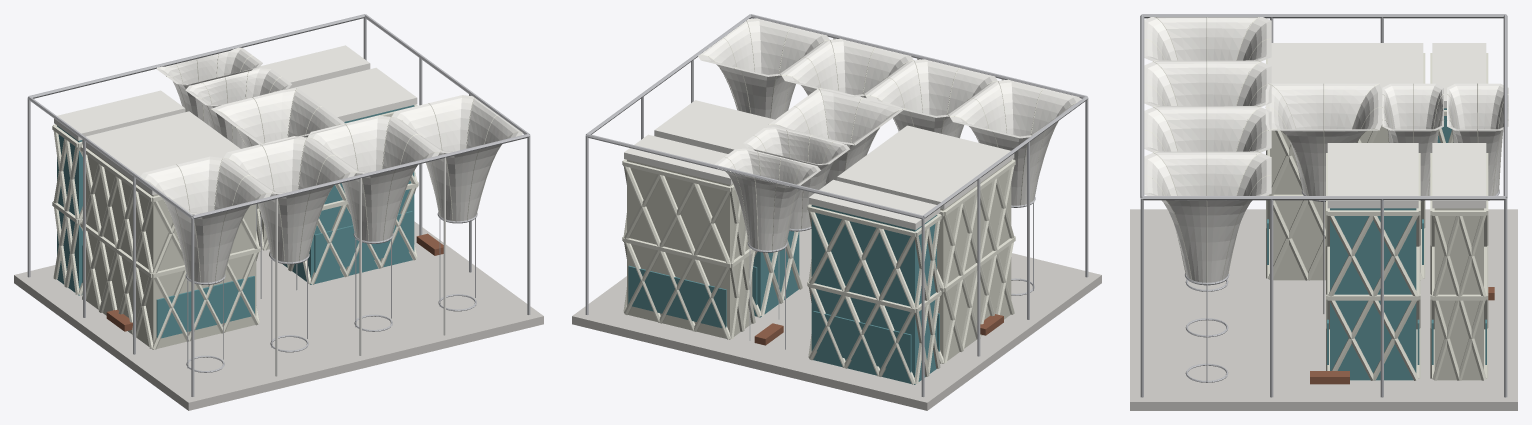
The model's file is dot-P08.glb.
The picture shows the model from 3 angles, left to right: view 1: azimuth 30°, elevation 25°; view 2: azimuth 150°, elevation 25°; view 3: azimuth 270°, elevation 25°; orthographic projection. The views are drawn at different scales.
Parts seen in each view (by area): view 1: pave, glass; view 2: pave, glass; view 3: pave, glass.
Boxes of the visible parts, x1,y1,x2,y2 form: pave: [14, 14, 543, 410]; glass: [57, 105, 414, 338]; pave: [572, 14, 1101, 410]; glass: [628, 205, 939, 384]; pave: [1130, 14, 1517, 410]; glass: [1267, 108, 1486, 380].
Bounding box in the file's own units: 6.02 × 3.05 × 5.12.
Materials: 2 (2 with a texture image).
